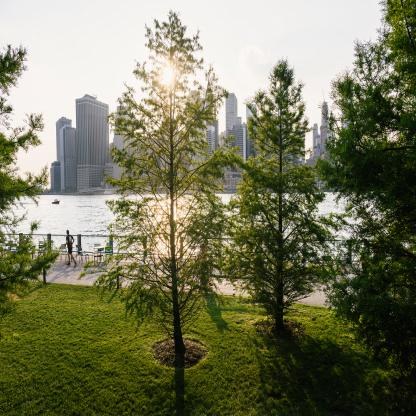Tree: (78, 4, 246, 370), (310, 0, 416, 373), (224, 55, 336, 342), (1, 37, 61, 332)
